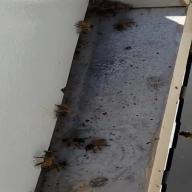Bee: (32, 145, 74, 174)
